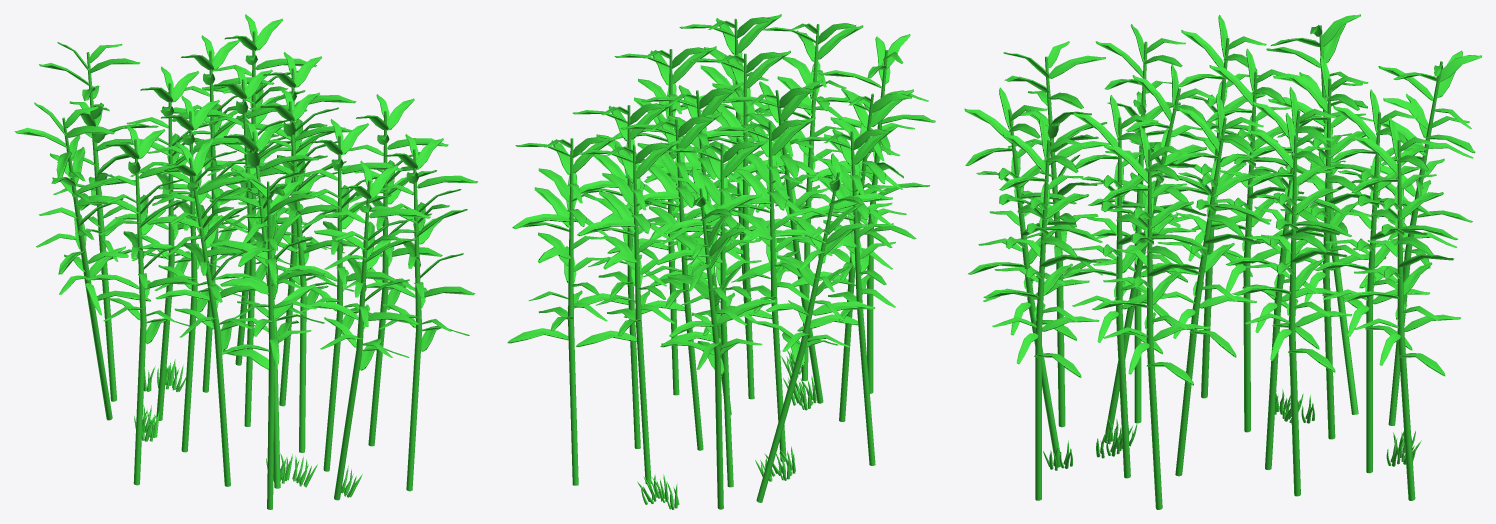
File: Tikbalang-bamboo.fbx
3 views of the same model, side by side, from view 1: azimuth 30°, elevation 25°; view 2: azimuth 150°, elevation 25°; view 3: azimuth 270°, elevation 25° (orthographic). The views are drawn at different scales.
Parts seen in each view (by area): view 1: Foliage_low; view 2: Foliage_low; view 3: Foliage_low.
Boxes of the visible parts, x1,y1,x2,y2 form: Foliage_low: [14, 14, 477, 509]; Foliage_low: [507, 14, 935, 509]; Foliage_low: [964, 14, 1481, 509].
Size of the model in its own units: 499 by 508 by 632.
